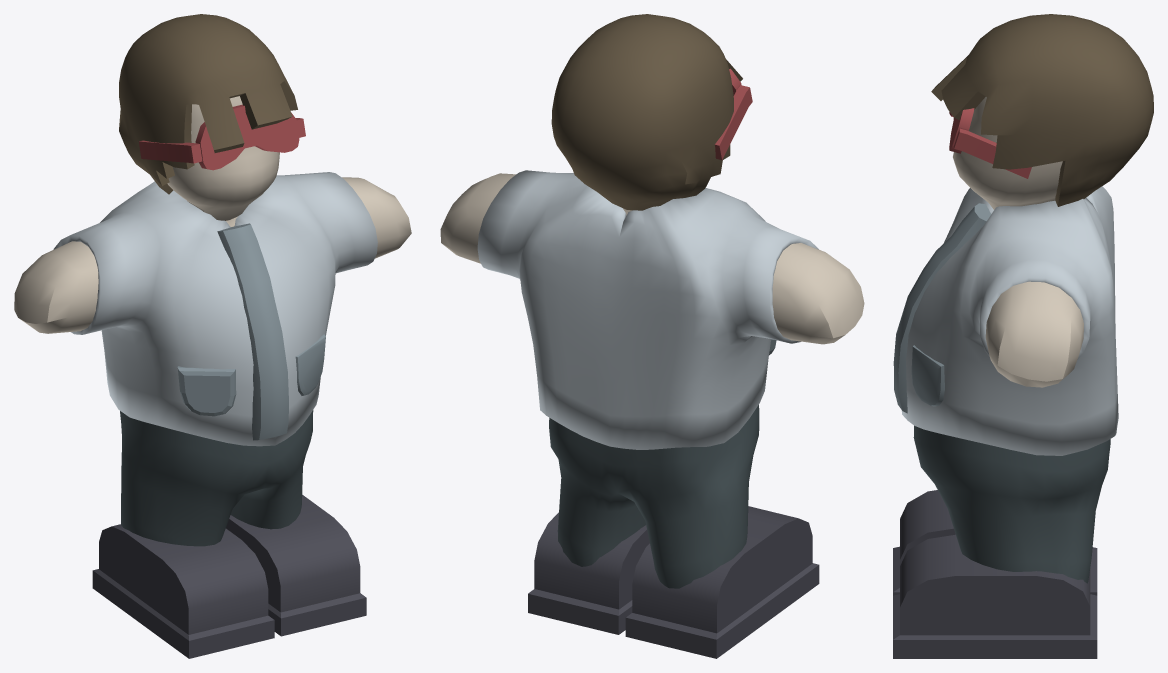
The model's file is SentryMesh.fbx.
3 views of the same model, side by side, from view 1: azimuth 30°, elevation 25°; view 2: azimuth 150°, elevation 25°; view 3: azimuth 270°, elevation 25° (orthographic). The views are drawn at different scales.
Visible parts, largest first — view 1: Cube.003, Cube.044, Cube.029, Cube, Cube.002, Cube.045, Plane.005, Plane.003, Plane.008, Plane.006; view 2: Cube.003, Cube.044, Cube.029, Cube, Cube.002, Cube.045, Plane.003; view 3: Cube.003, Cube.044, Cube.029, Cube.045, Cube.002, Plane.005, Cube, Plane.003, Plane.006.
Part boxes in pixels (x1,y1,x2,y2): Cube.003: (53, 172, 377, 446); Cube.044: (119, 14, 297, 194); Cube.029: (120, 410, 313, 546); Cube: (92, 524, 274, 658); Cube.002: (14, 96, 411, 333); Cube.045: (226, 495, 366, 636); Plane.005: (217, 223, 288, 440); Plane.003: (139, 104, 305, 170); Plane.008: (177, 366, 236, 416); Plane.006: (295, 334, 325, 395); Cube.003: (477, 170, 818, 449); Cube.044: (551, 14, 742, 210); Cube.029: (549, 405, 759, 588); Cube: (625, 506, 819, 658); Cube.002: (440, 173, 864, 344); Cube.045: (528, 512, 649, 634); Plane.003: (714, 68, 752, 159); Cube.003: (901, 186, 1118, 455); Cube.044: (931, 14, 1153, 206); Cube.029: (913, 425, 1110, 583); Cube.045: (893, 534, 1097, 658); Cube.002: (953, 97, 1083, 387); Plane.005: (893, 203, 991, 413); Cube: (893, 490, 1097, 595); Plane.003: (949, 108, 1031, 178); Plane.006: (911, 345, 944, 406).
Size of the model in its own units: 161 by 228 by 91.07.
